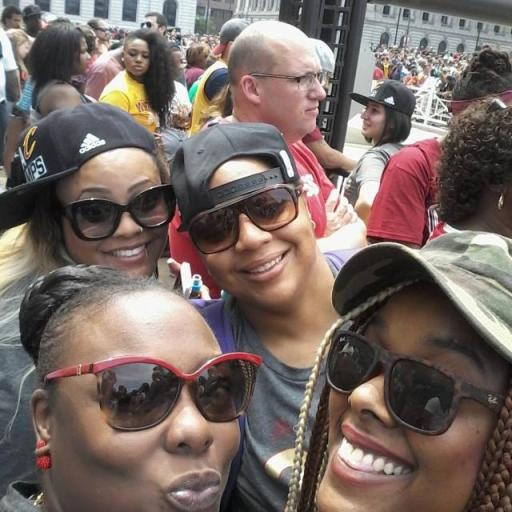Adidas: (77, 130, 108, 157)
